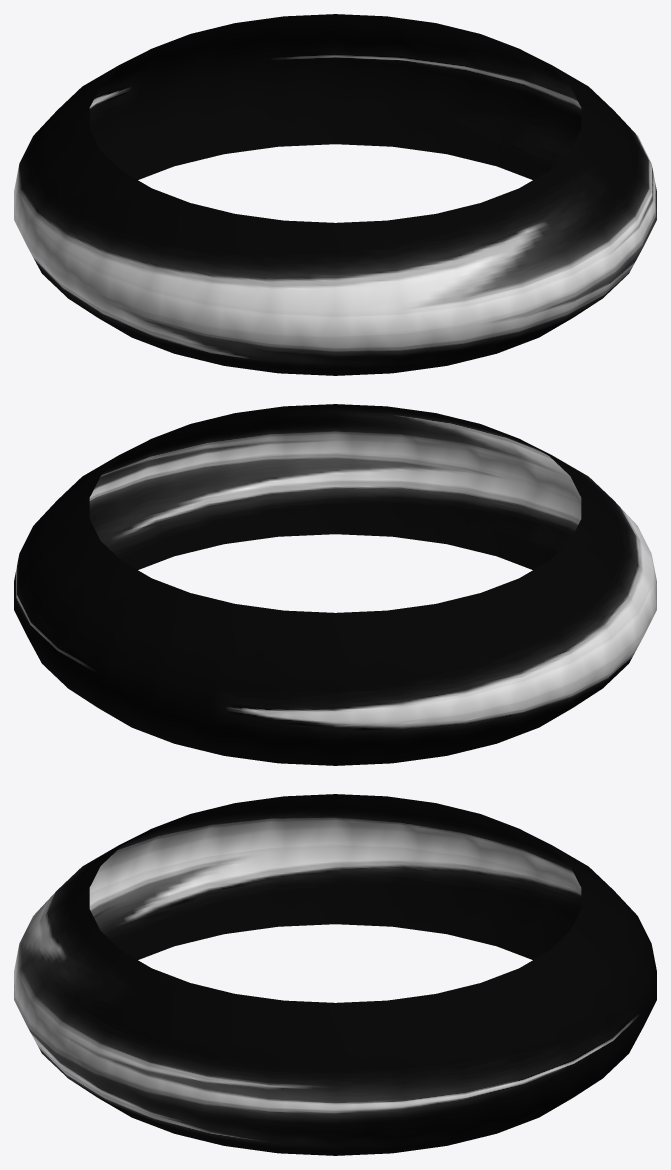
The model's file is 0114_PaoMoLiShu_qilang_01.glb.
3 renders of one model, top to bottom at view 1: azimuth 30°, elevation 25°; view 2: azimuth 150°, elevation 25°; view 3: azimuth 270°, elevation 25°, orthographic.
Size of the model in its own units: 2.2 by 0.5316 by 2.19.
1 material, 1 textured.
